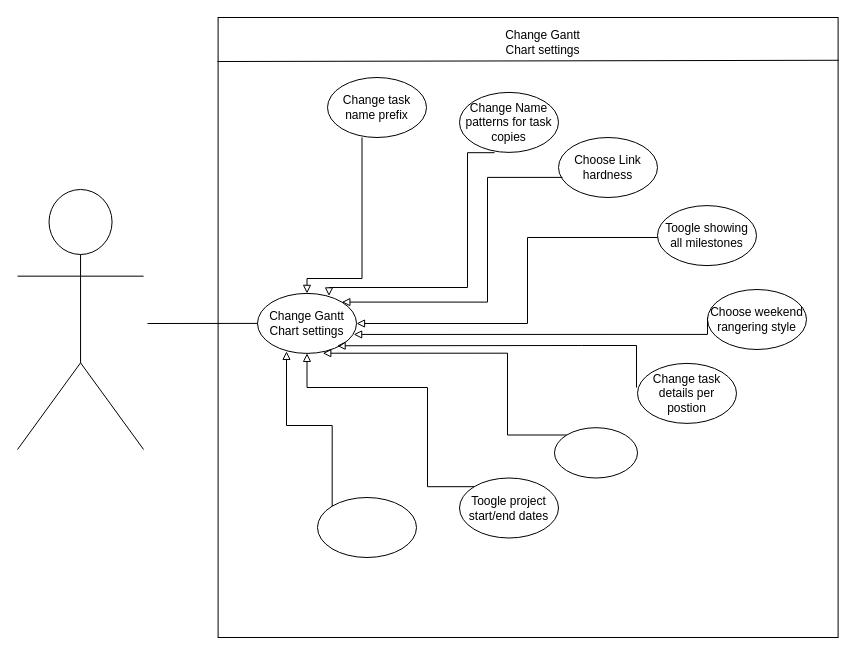
This 858x655 diagram has some shape labels left out. Each missing label, with the box of its shape:
Change resources color: (554, 427, 638, 478)
Toogle today as red line: (316, 496, 416, 558)
User: (16, 188, 144, 450)
